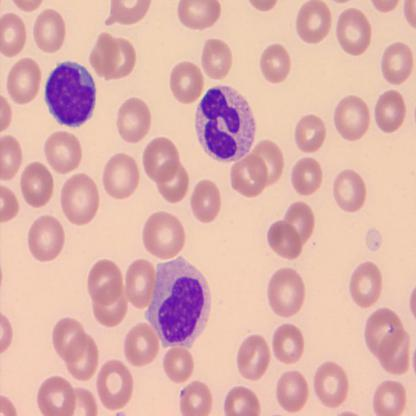Segmented neutrophil: (194, 81, 257, 166)
